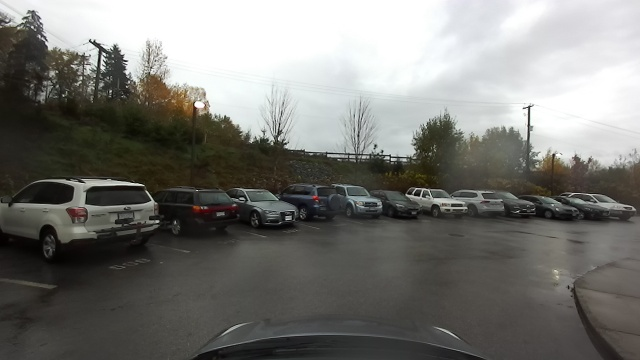car: (3, 178, 160, 255), (165, 183, 237, 239), (240, 189, 301, 228), (423, 186, 469, 221), (301, 183, 339, 220), (341, 187, 379, 219), (382, 189, 418, 219), (468, 190, 507, 217), (539, 197, 575, 222), (605, 196, 636, 224), (504, 192, 533, 218), (580, 201, 612, 223)
